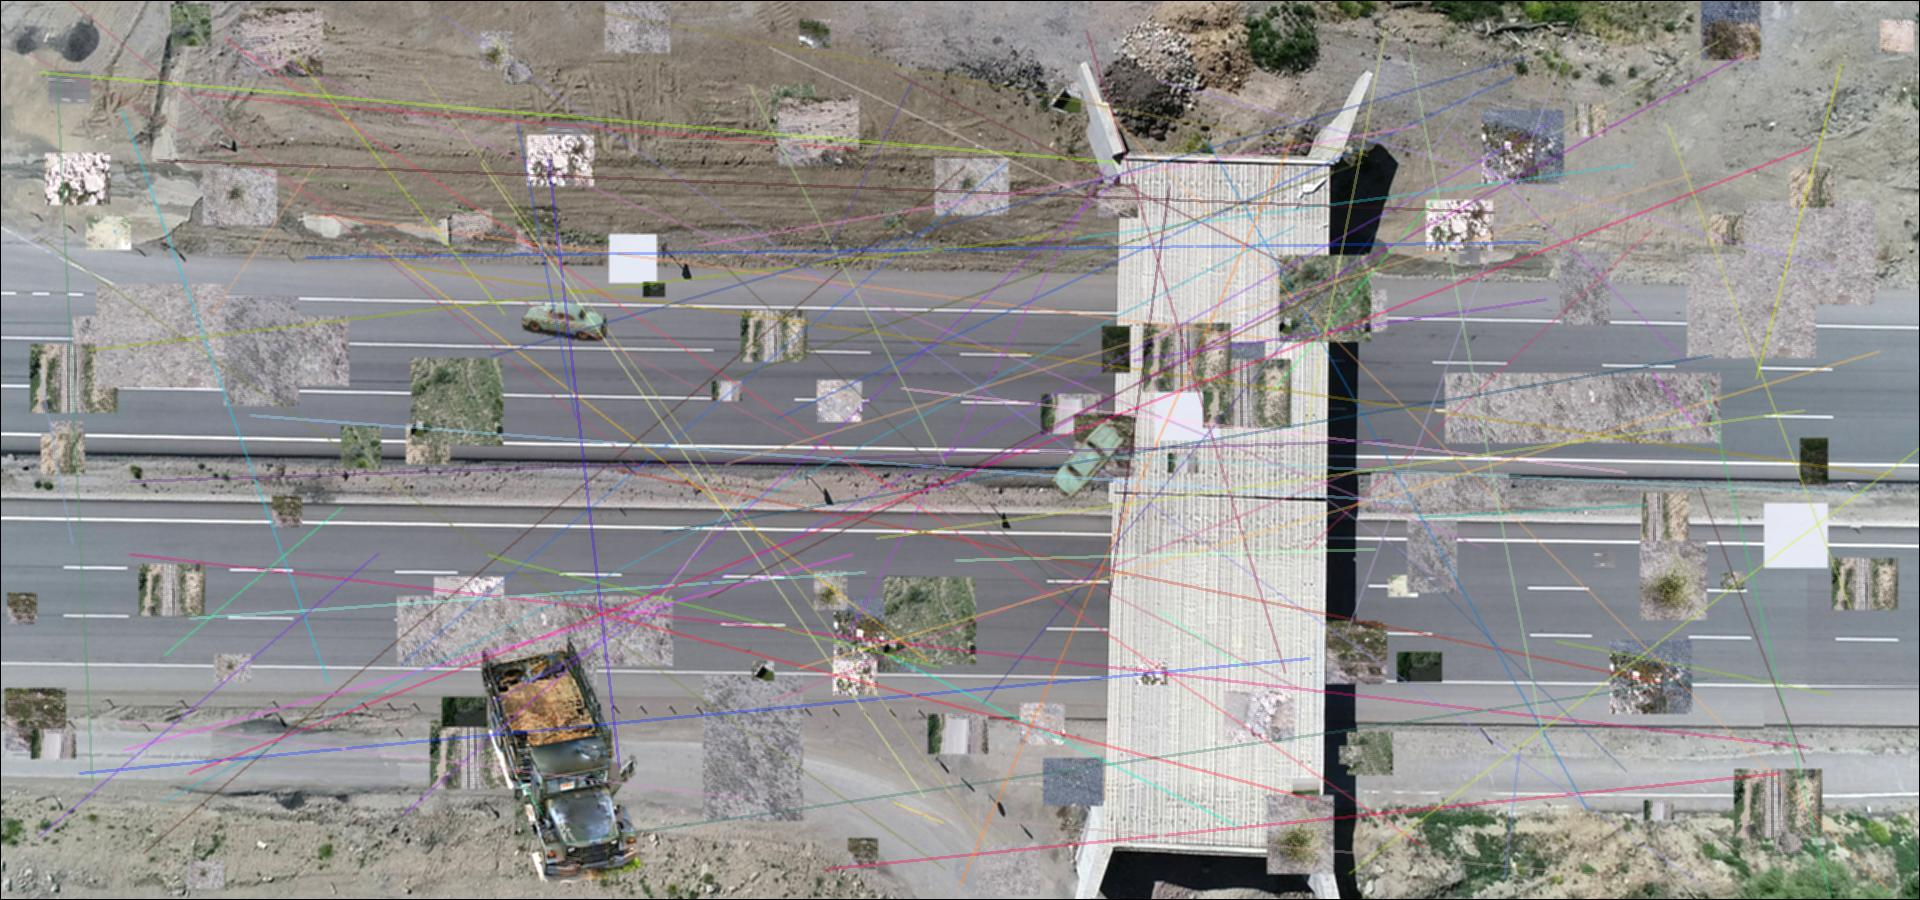arac: (478, 636, 645, 882), (1051, 422, 1124, 500), (522, 299, 607, 340)
